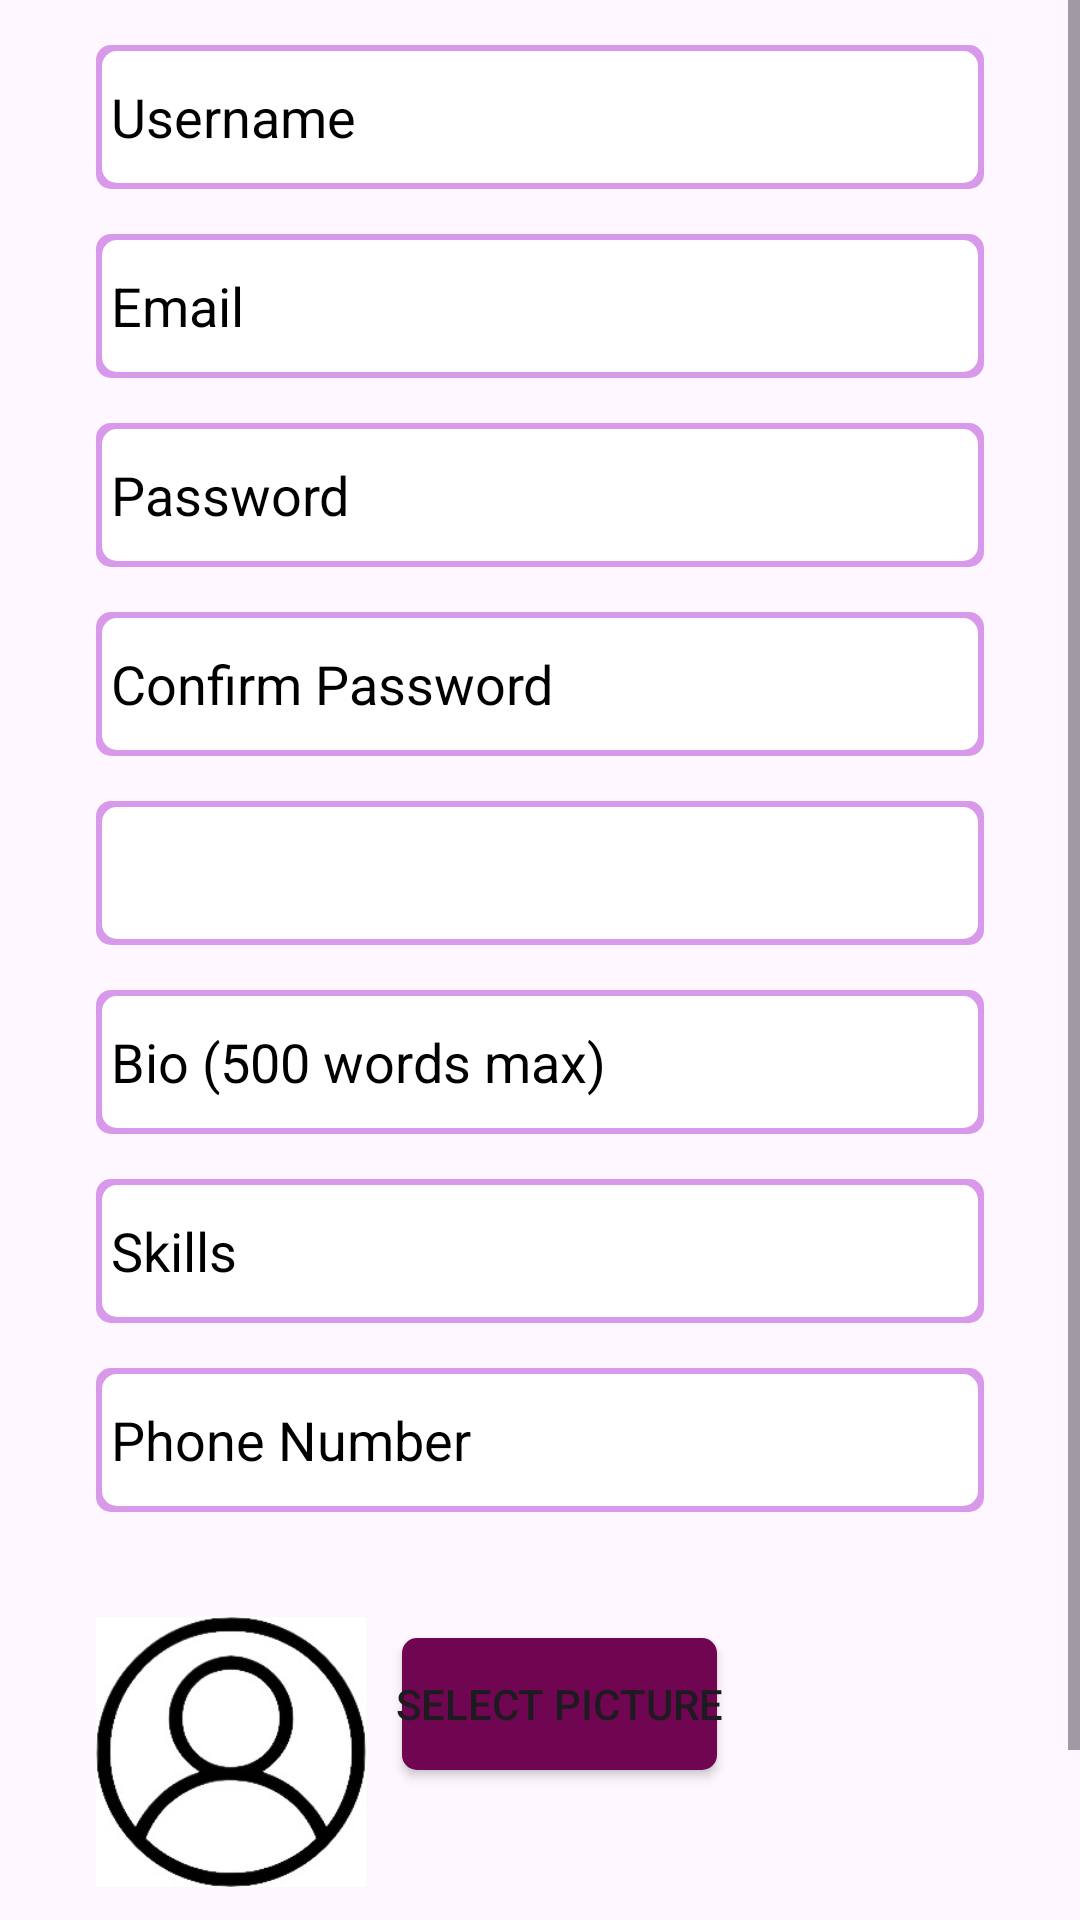

Where to tap for icons on this 1080px x 1920px app screen, as point (x, y):
Profile Picture: point (231, 1752)
